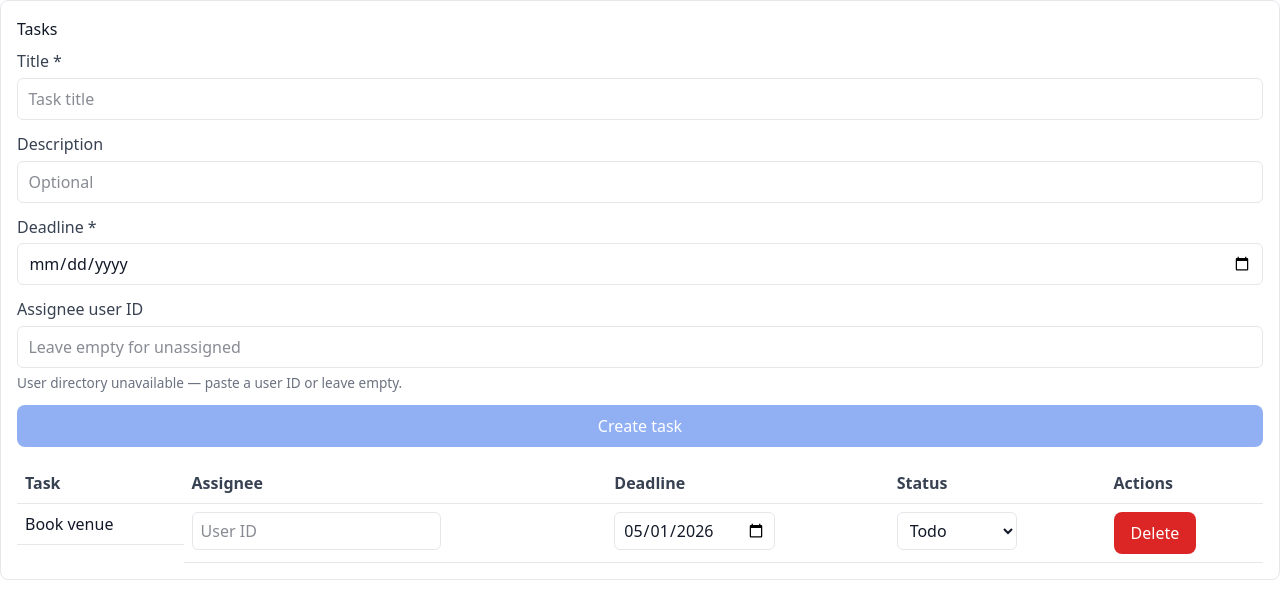
Scenario: TasksSection › deletes a task and refreshes the list
Expected: the row with test id "task-row-t1" is shown, [17,504,1263,563]
Click the button with test id "task-delete-t1" at {"x": 1155, "y": 533}, box [1114,512,1196,554]
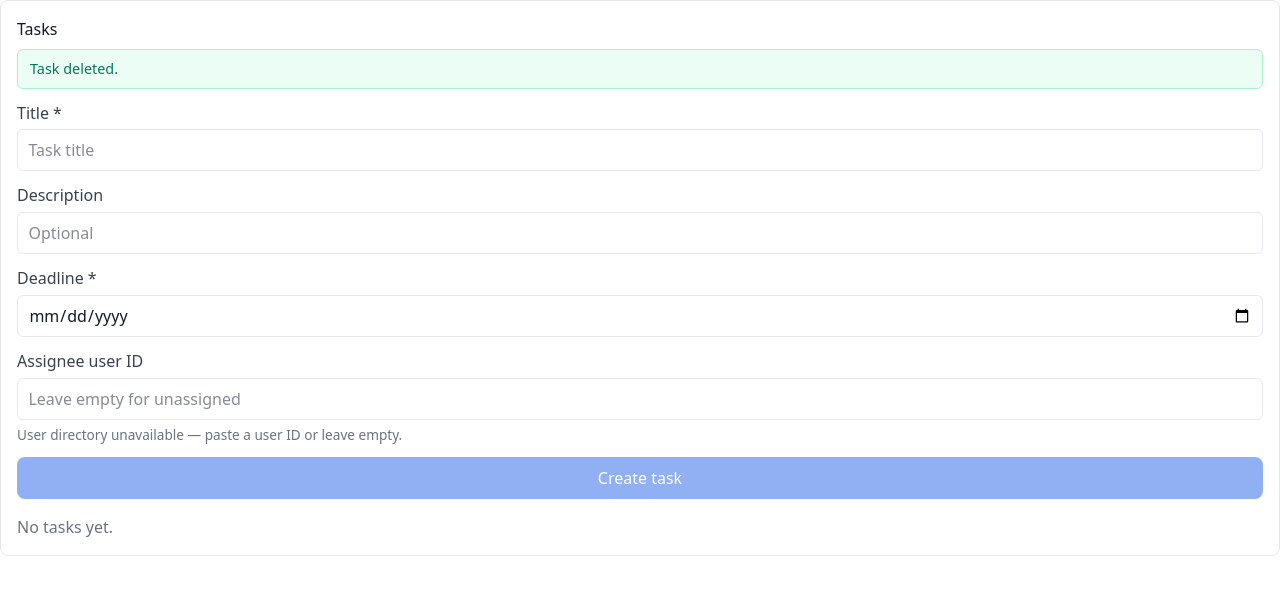
Result: the message with test id "tasks-notice" shows "deleted" at [30,59,118,78]
Result: the text "No tasks yet." is shown at [17,516,113,538]
